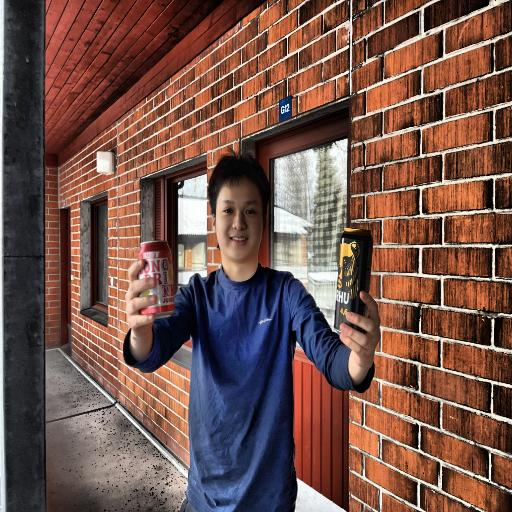karhu: (324, 218, 383, 338)
koff: (131, 237, 180, 318)
